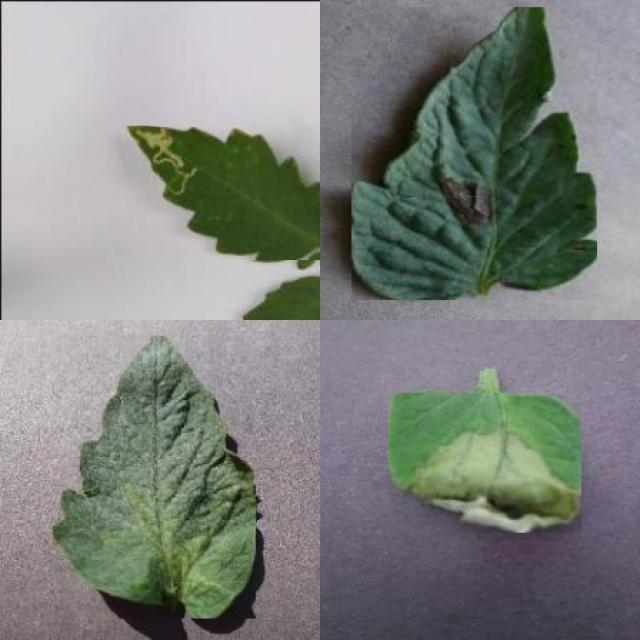Early Blight: (352, 7, 598, 300)
Late Blight: (388, 394, 582, 534)
Leaf Miner: (126, 126, 320, 260)
Spider Mites: (54, 336, 256, 618)
